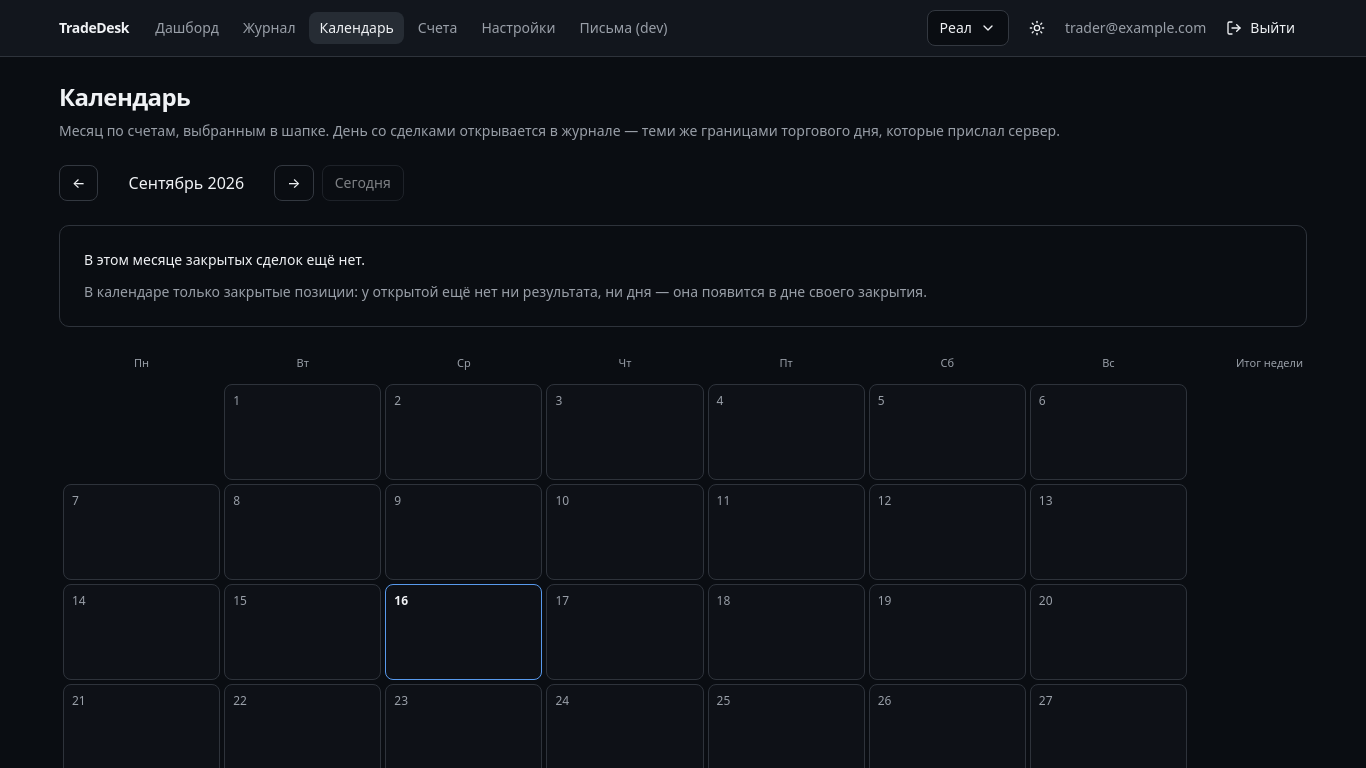
Test: пресеты выбора › «Все счета» возвращает выбор к полному и снимает галочки
Expected: the heading "Календарь" is shown, x1=59 y1=80 x2=190 y2=113
Click the button with aria-label "Выбрать счета": (968, 28) x1=927 y1=10 x2=1009 y2=46
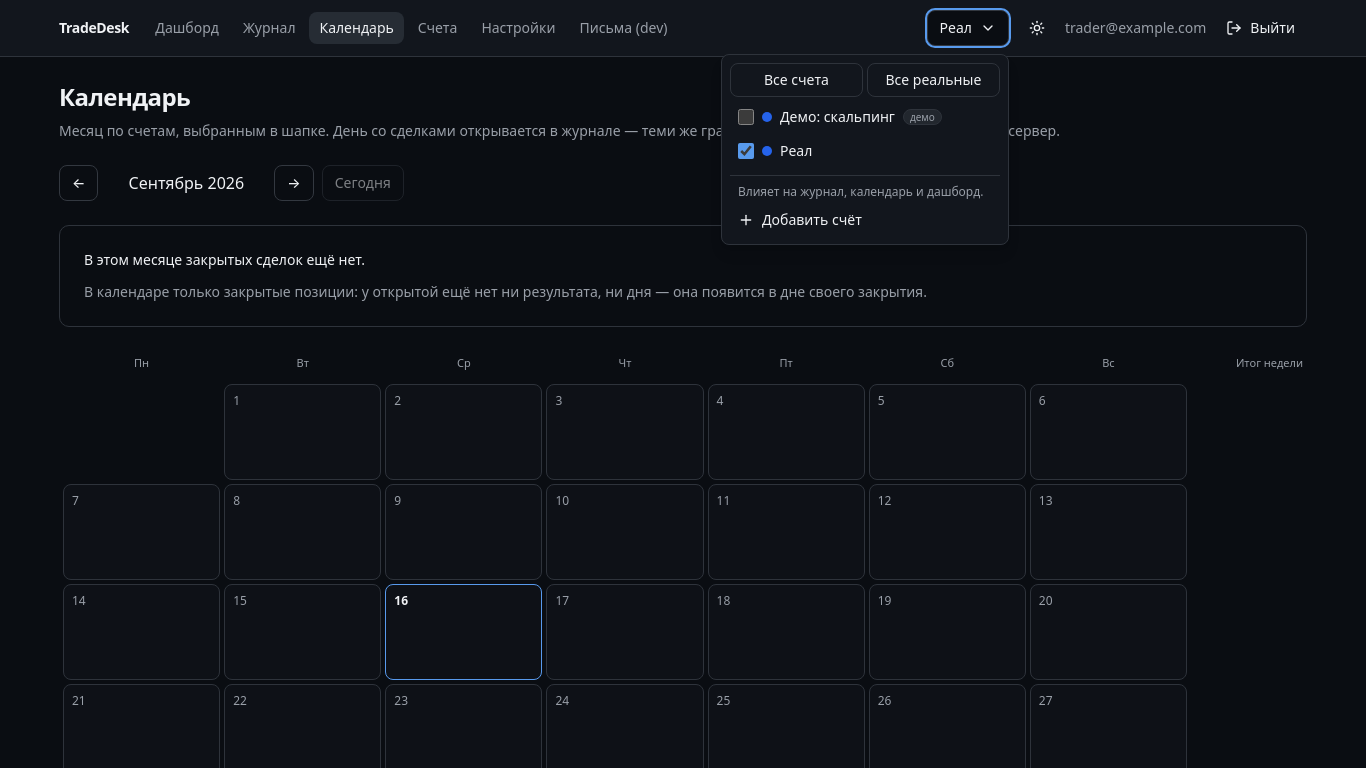
Expected: the checkbox labelled "Реал" is checked, x1=738 y1=143 x2=754 y2=159
Click the button "Все счета": (796, 80) x1=730 y1=63 x2=863 y2=97
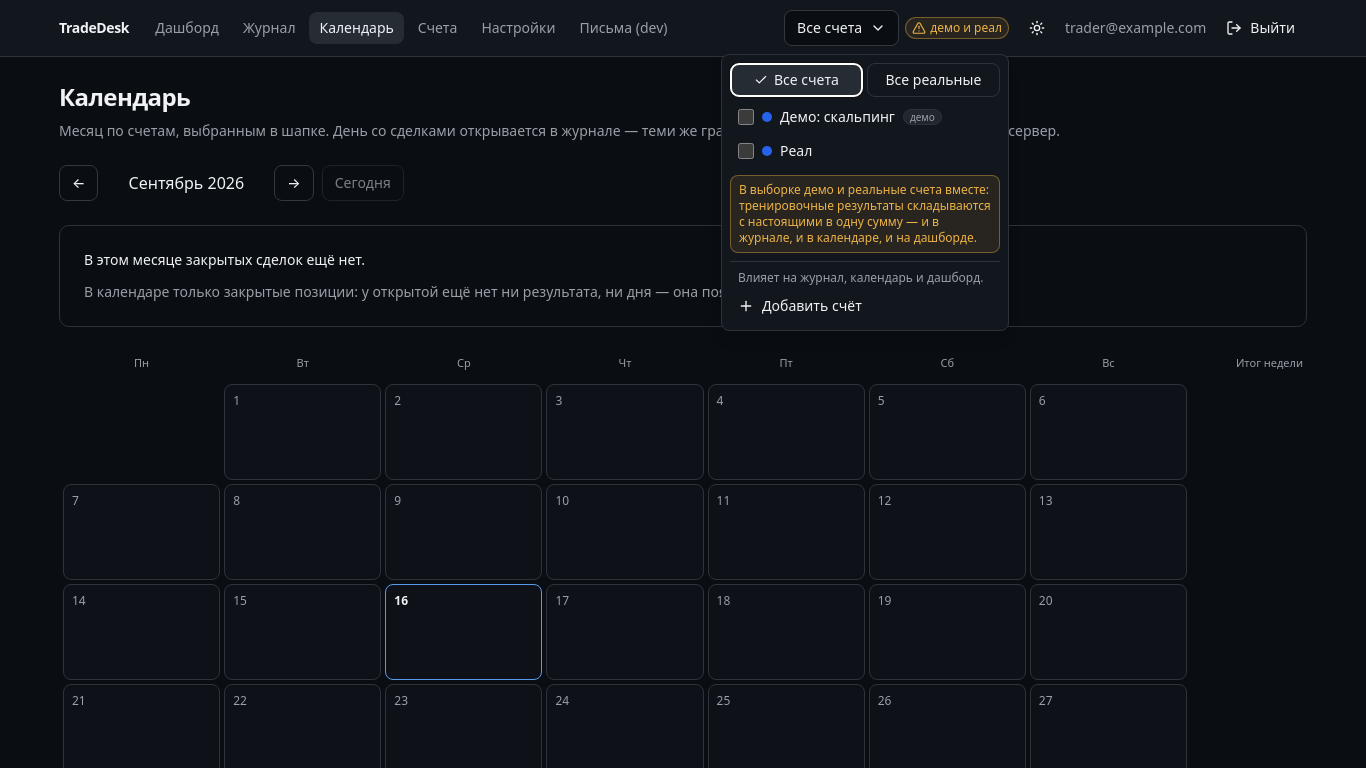
Expected: the checkbox labelled "Реал" is not checked, x1=738 y1=143 x2=754 y2=159
